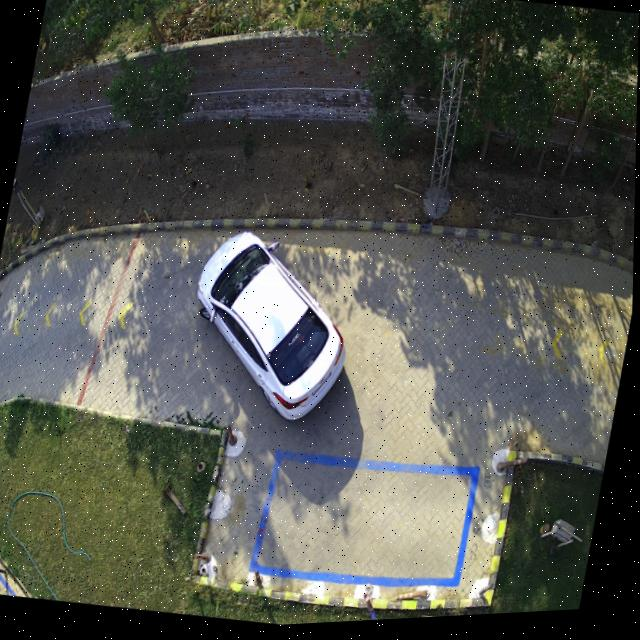car: (196, 235, 345, 424)
